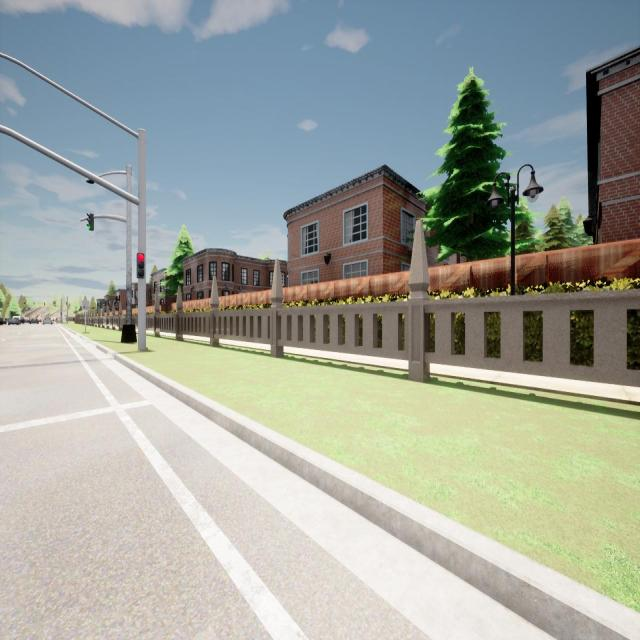Traffic_Signs: (82, 301, 89, 310)
Vehicle: (8, 318, 19, 326), (43, 317, 52, 325), (30, 317, 39, 324), (0, 316, 6, 325), (21, 319, 30, 324), (12, 316, 23, 318)
traffic_light: (136, 253, 145, 278), (87, 213, 94, 231), (60, 312, 61, 315), (66, 302, 67, 305), (44, 303, 45, 306), (34, 302, 34, 306)
